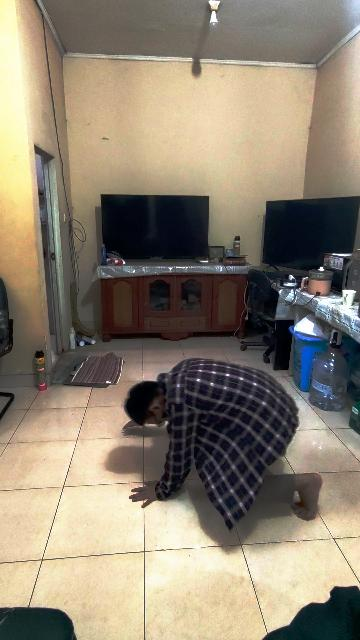jatuh: (120, 360, 324, 524)
